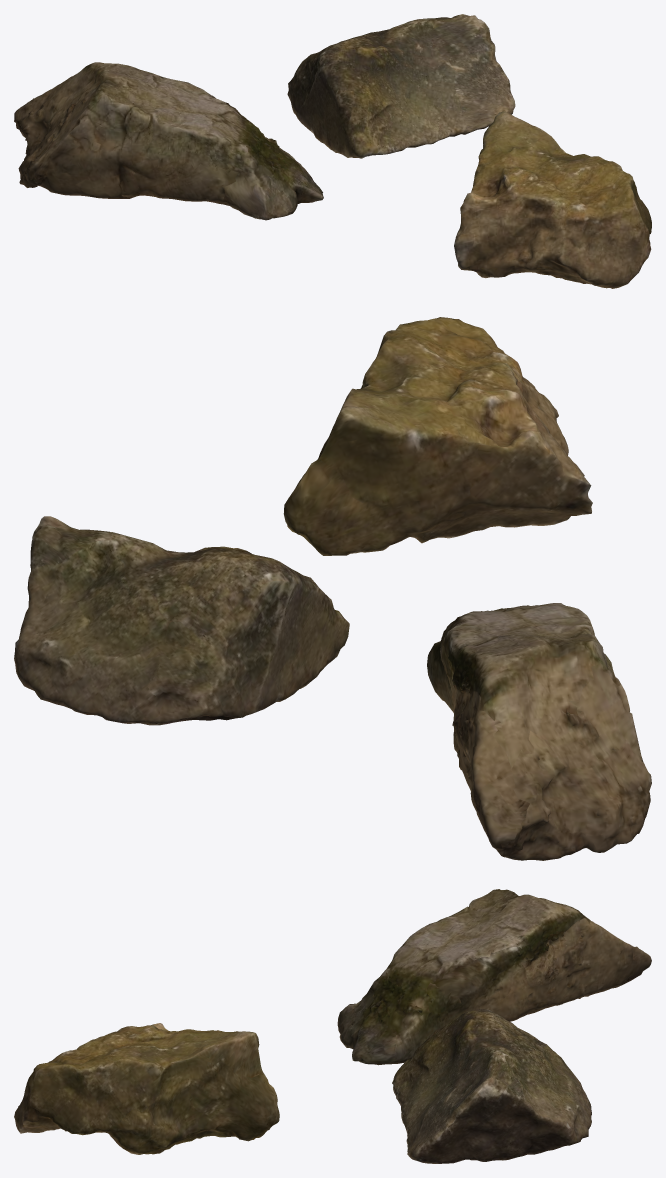
File: rocks.glb
The picture shows the model from 3 angles, top to bottom: view 1: azimuth 30°, elevation 25°; view 2: azimuth 150°, elevation 25°; view 3: azimuth 270°, elevation 25°; orthographic projection. The views are drawn at different scales.
Parts seen in each view (by area): view 1: rock_moss_set_01_rock02, rock_moss_set_01_rock06, rock_moss_set_01_rock03; view 2: rock_moss_set_01_rock03, rock_moss_set_01_rock06, rock_moss_set_01_rock02; view 3: rock_moss_set_01_rock02, rock_moss_set_01_rock06, rock_moss_set_01_rock03.
Boxes of the visible parts, x1,y1,x2,y2 form: rock_moss_set_01_rock02: (14,62,323,220); rock_moss_set_01_rock06: (454,111,651,288); rock_moss_set_01_rock03: (287,14,515,158); rock_moss_set_01_rock03: (14,516,349,725); rock_moss_set_01_rock06: (283,317,592,555); rock_moss_set_01_rock02: (427,603,651,860); rock_moss_set_01_rock02: (337,889,651,1065); rock_moss_set_01_rock06: (14,1023,279,1154); rock_moss_set_01_rock03: (392,1009,591,1163).
Size of the model in its own units: 5.36 by 1.32 by 6.62.
Materials: 1 (1 with a texture image).
